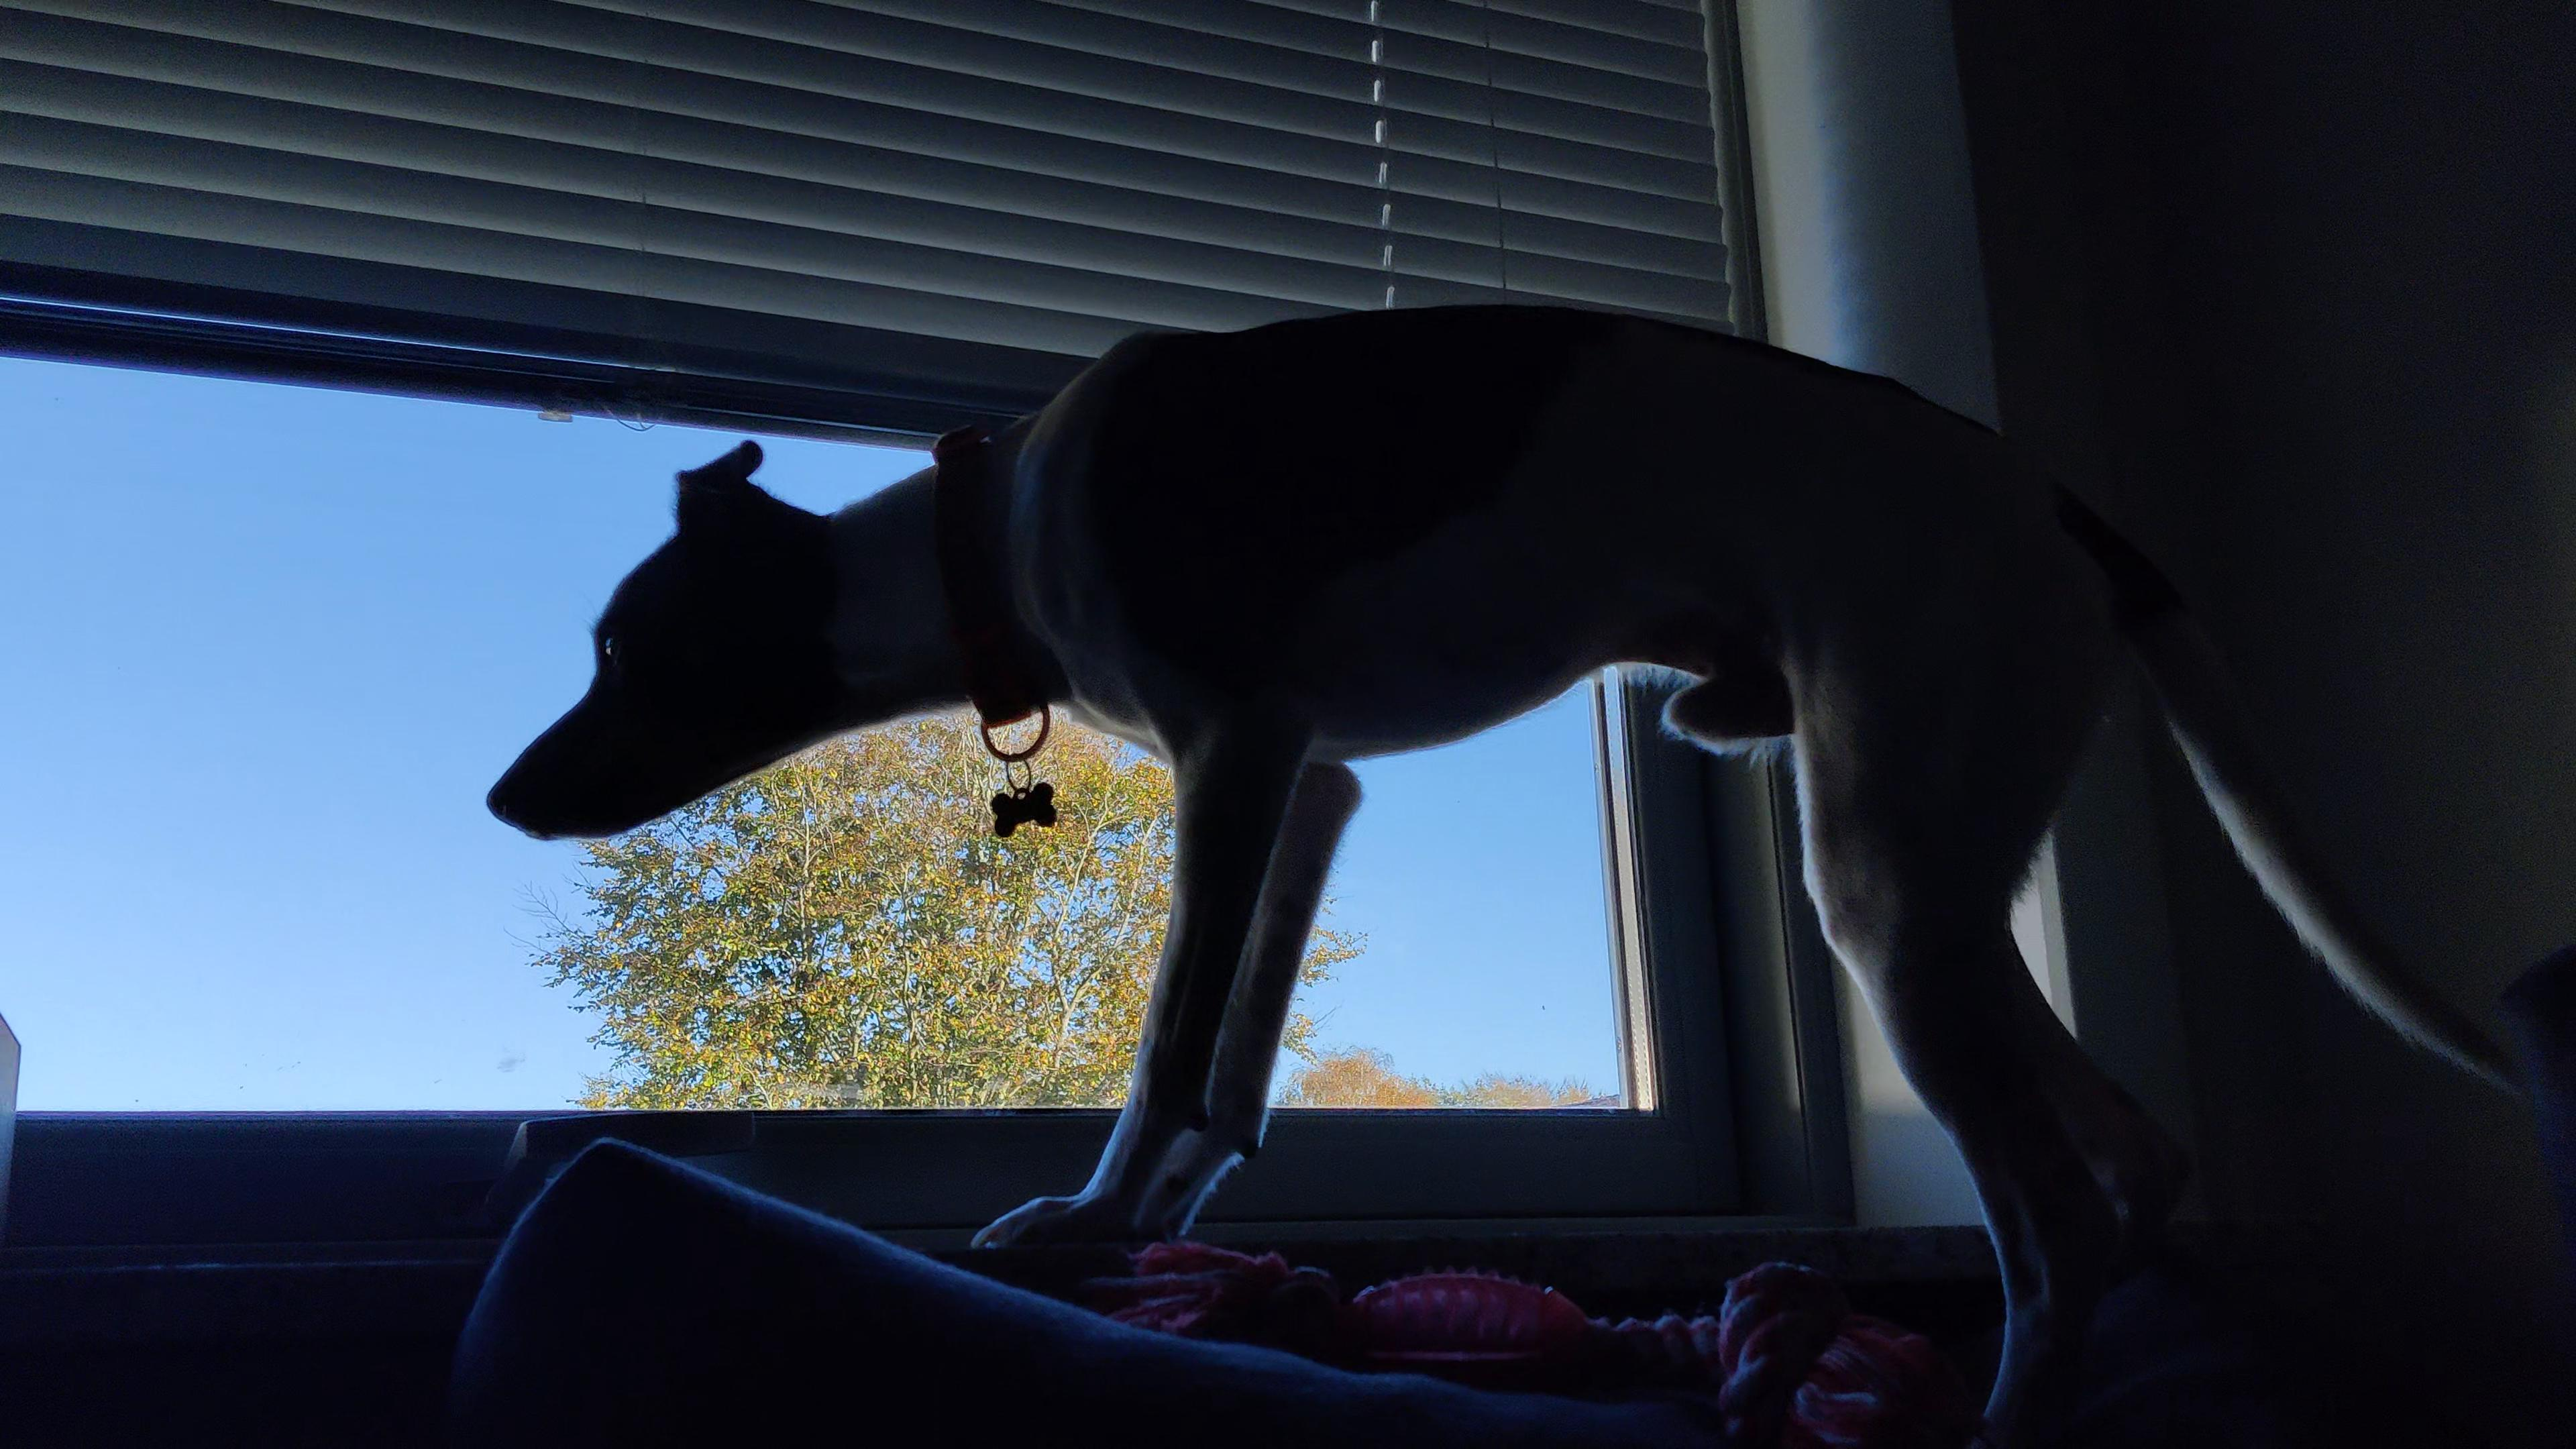Dog: (487, 280, 2530, 1415)
